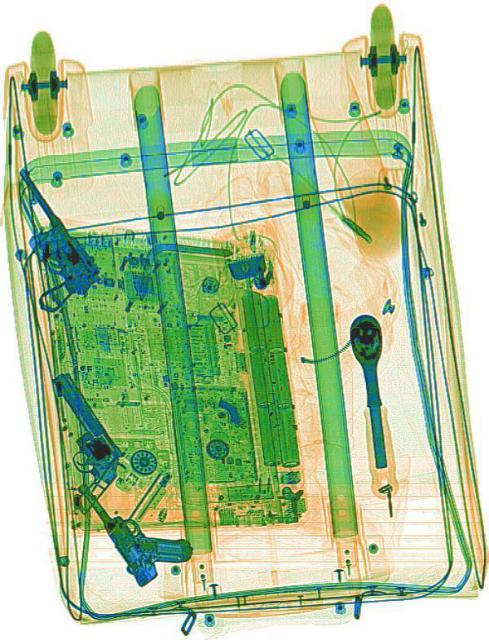Gun: (71, 443, 196, 599), (16, 366, 132, 514), (0, 168, 102, 302)
